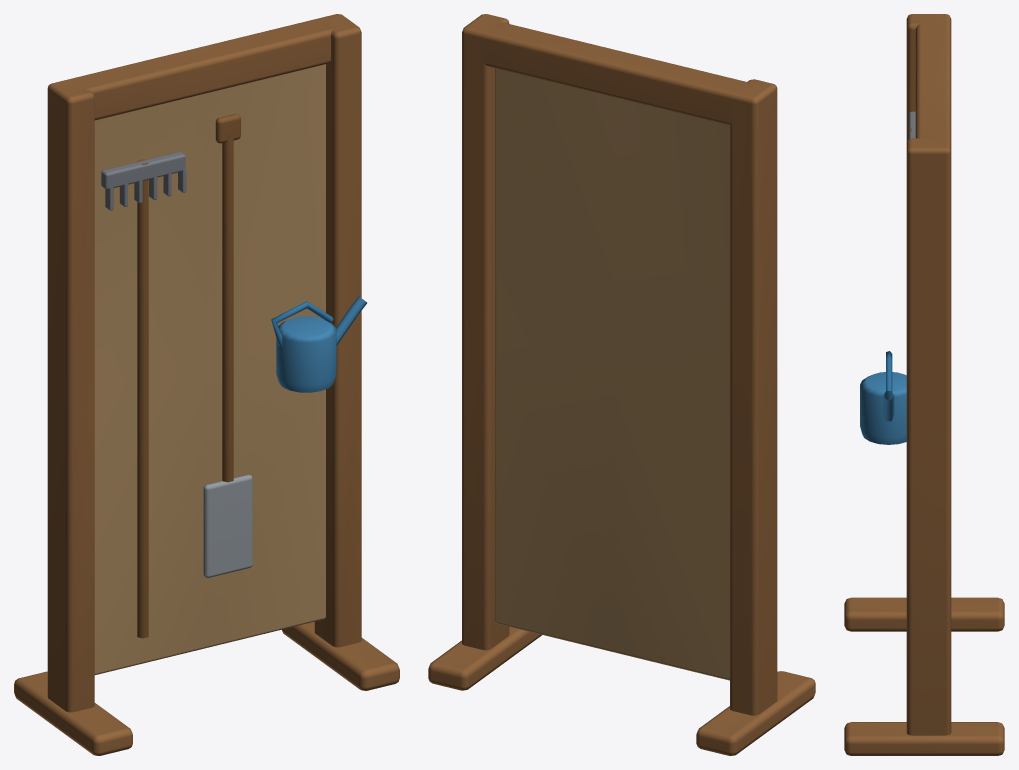
The model's file is furn_rack_tools.glb.
The picture shows the model from 3 angles, left to right: view 1: azimuth 30°, elevation 25°; view 2: azimuth 150°, elevation 25°; view 3: azimuth 270°, elevation 25°; orthographic projection. The views are drawn at different scales.
Parts seen in each view (by area): view 1: furn_rack_tools_main; view 2: furn_rack_tools_main; view 3: furn_rack_tools_main.
Part boxes in pixels (left/top/right/bottom): furn_rack_tools_main: left=14, top=14, right=399, bottom=755; furn_rack_tools_main: left=428, top=14, right=815, bottom=755; furn_rack_tools_main: left=844, top=14, right=1004, bottom=755.
Bounding box in the file's own units: 0.76 × 1.5 × 0.36.
